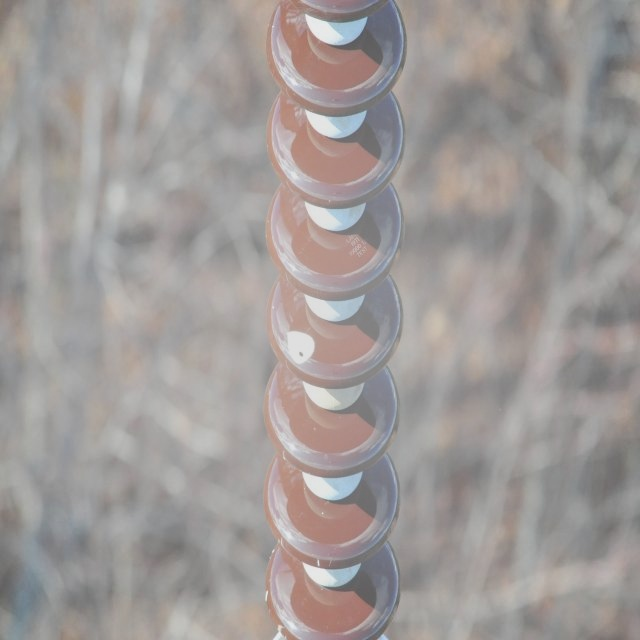broken: (286, 324, 316, 366)
insulator: (262, 1, 408, 640)
